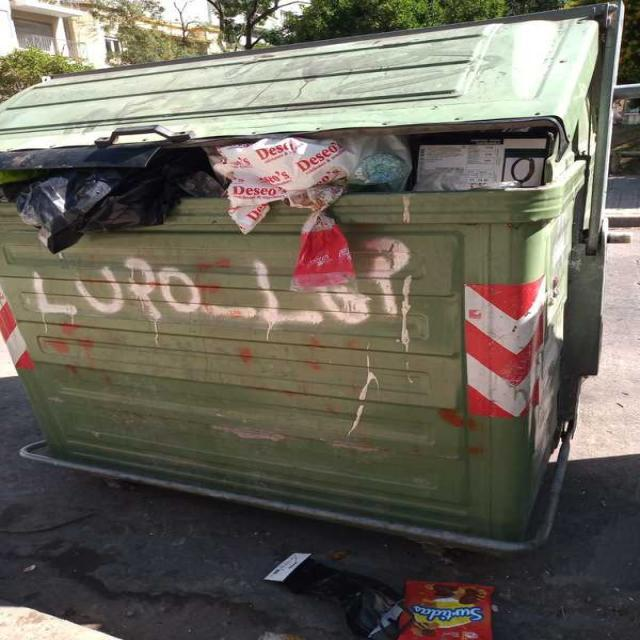garbage: (1, 150, 619, 239), (266, 548, 536, 640)
